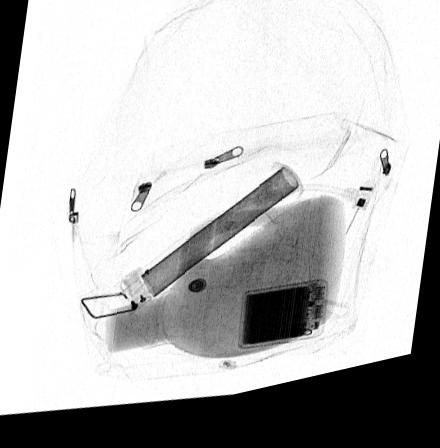Powerbank: (235, 294, 327, 362)
